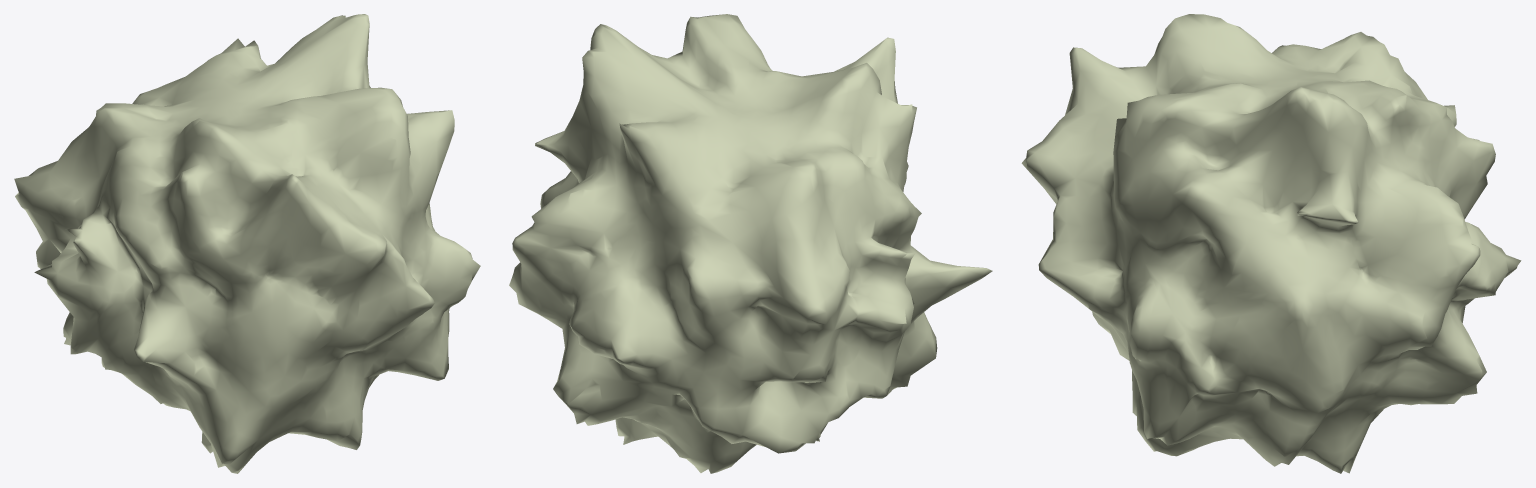
Rendered from spiky.obj.
3 renders of one model, left to right at view 1: azimuth 30°, elevation 25°; view 2: azimuth 150°, elevation 25°; view 3: azimuth 270°, elevation 25°, orthographic. The views are drawn at different scales.
Visible parts, largest first — view 1: off2obj1515-162536-761000; view 2: off2obj1515-162536-761000; view 3: off2obj1515-162536-761000.
Part boxes in pixels (box(x1,y1,x2,y2)): off2obj1515-162536-761000: box(14, 14, 480, 473); off2obj1515-162536-761000: box(509, 14, 992, 473); off2obj1515-162536-761000: box(1021, 14, 1521, 473).
Size of the model in its own units: 2.03 by 2 by 2.2.
